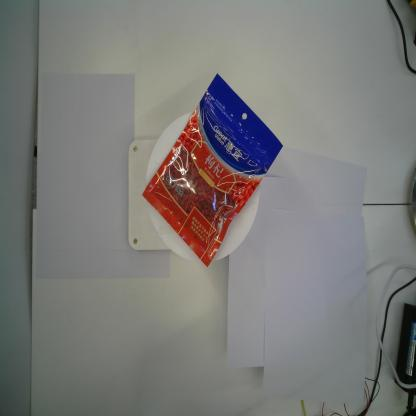Dried Fruit: (141, 72, 284, 268)
